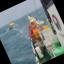fishing boat: (4, 12, 17, 30)
